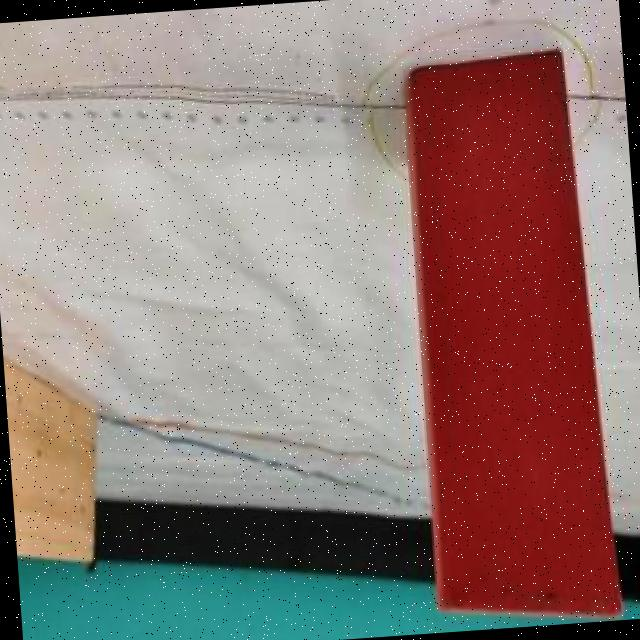redbox: (396, 44, 621, 628)
